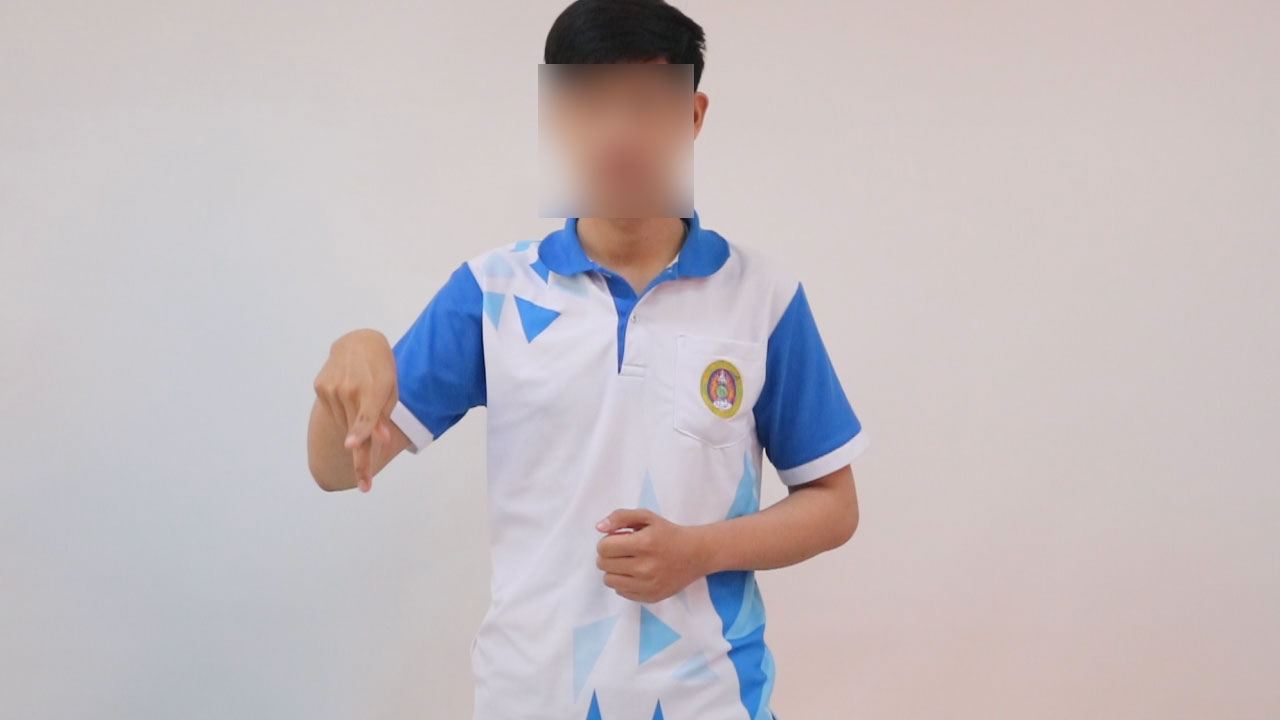por: (296, 310, 417, 500)
